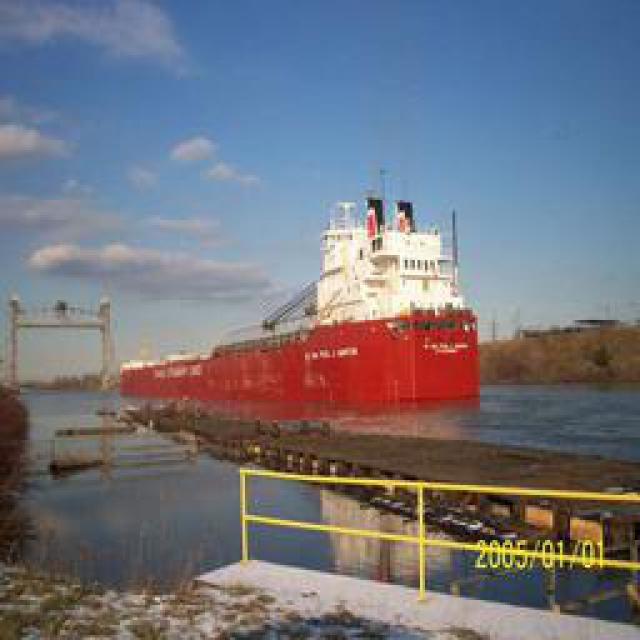Ship: (115, 169, 488, 434)
